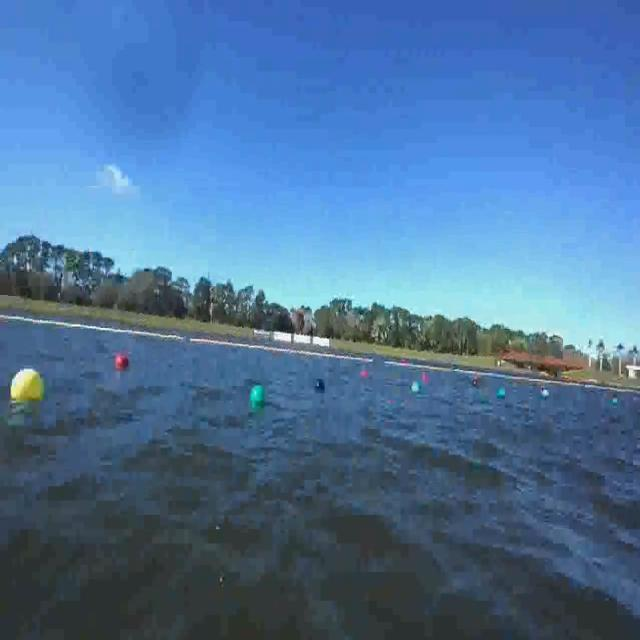black-buoy: (315, 378, 326, 392)
green-buoy: (251, 386, 264, 406), (410, 379, 422, 394), (496, 386, 506, 396)
red-buoy: (114, 353, 130, 372), (359, 367, 370, 379)
yellow-buoy: (10, 368, 44, 404)
